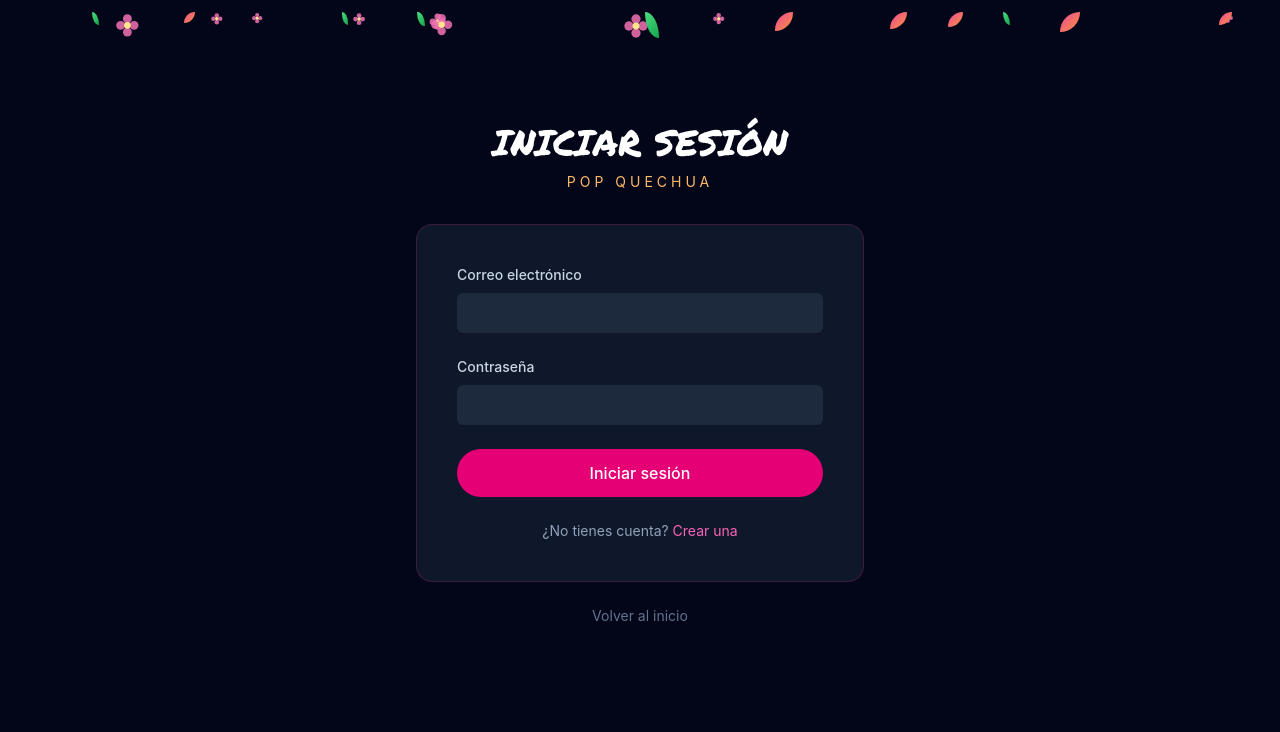
Test: UserLogin page › switches back to login mode from register mode
This screenshot has width=1280, height=732.
Step 1. Click the button "Crear una" → {"x": 705, "y": 530}, box [673,520,738,540]
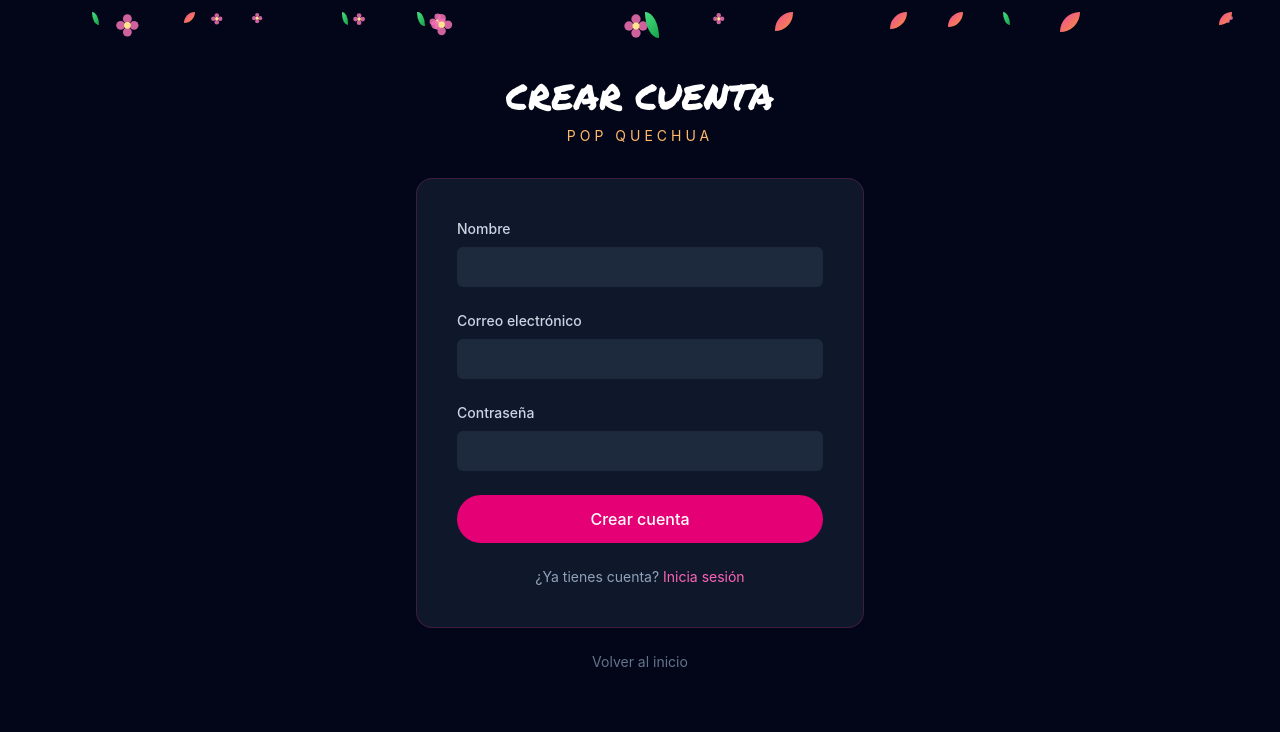
Step 2. Click the button "Inicia sesión" → {"x": 704, "y": 576}, box [663,566,745,586]
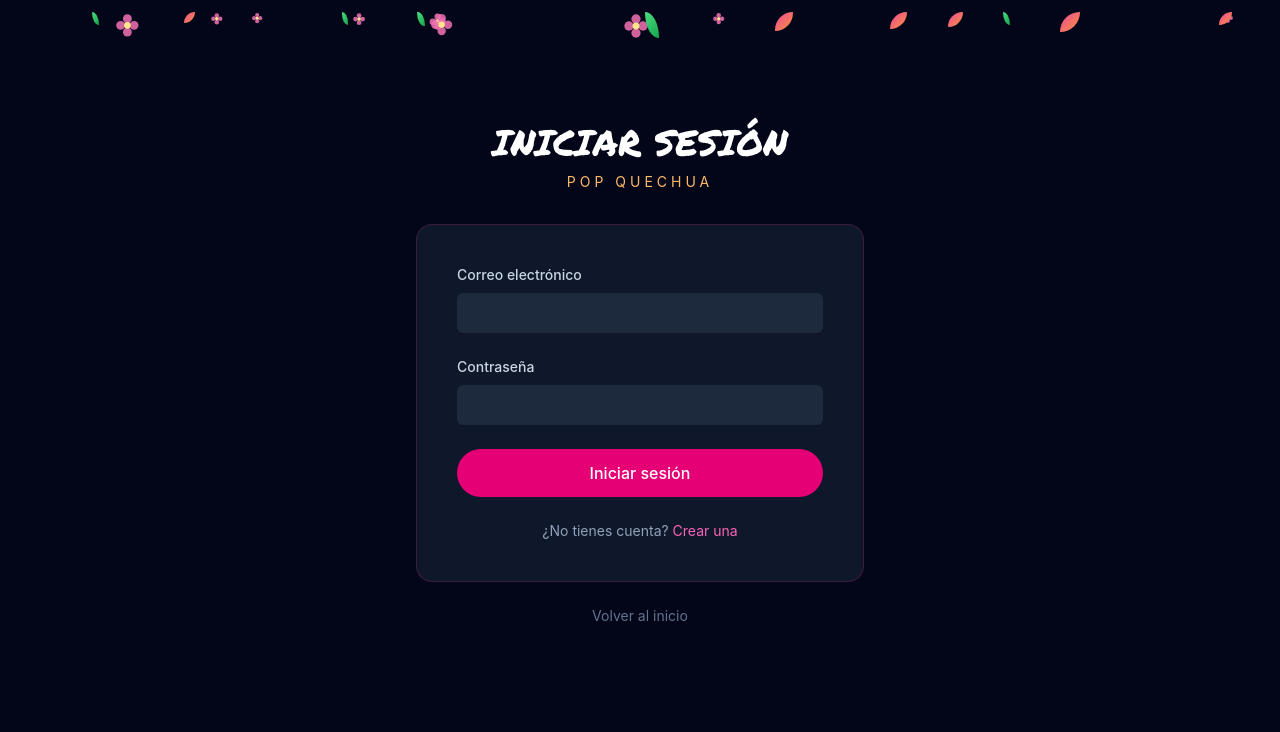
Now the heading "Iniciar Sesión" is shown, box [492,116,788,166]
